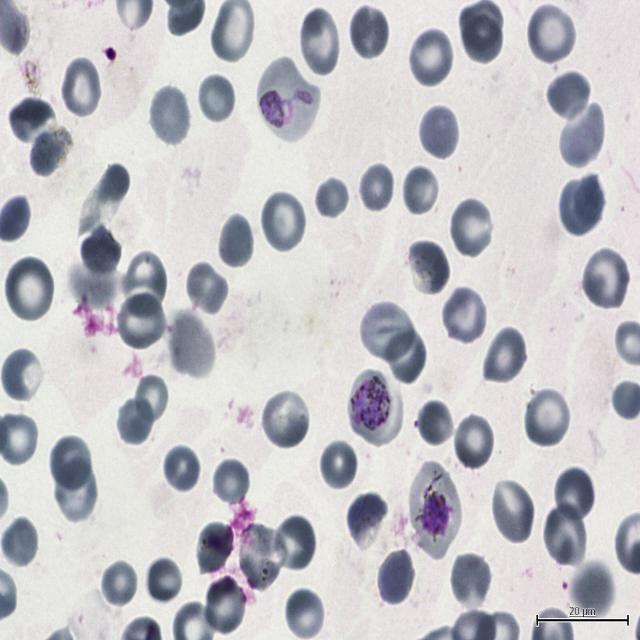red blood cell: (4, 254, 54, 324), (361, 298, 415, 362), (581, 245, 631, 312), (526, 2, 578, 66), (167, 310, 215, 379), (559, 100, 606, 169), (116, 248, 166, 312), (490, 477, 536, 545), (240, 524, 286, 592), (298, 6, 342, 77), (116, 290, 166, 352), (261, 388, 311, 450), (260, 189, 307, 254), (523, 387, 572, 449), (542, 502, 588, 568), (449, 196, 495, 260), (408, 26, 454, 89), (382, 324, 428, 387), (442, 284, 488, 346), (482, 326, 528, 388), (346, 489, 391, 552), (566, 562, 614, 621), (404, 237, 451, 297), (52, 465, 99, 523), (28, 123, 74, 182), (148, 84, 191, 147), (59, 56, 102, 119), (272, 513, 316, 574), (212, 0, 255, 62), (452, 412, 496, 472), (545, 68, 592, 123), (449, 551, 492, 611), (553, 464, 596, 524), (9, 95, 57, 148), (417, 103, 460, 162), (185, 260, 229, 316), (375, 547, 415, 608), (2, 343, 43, 400), (115, 392, 157, 447), (350, 2, 390, 59), (205, 578, 247, 632), (217, 212, 256, 270), (50, 435, 91, 490), (458, 1, 504, 49), (318, 437, 358, 492), (401, 164, 441, 218), (194, 517, 235, 569), (196, 72, 236, 125), (559, 180, 596, 237), (284, 588, 325, 639), (144, 554, 184, 606), (415, 397, 455, 448), (0, 516, 39, 568), (357, 160, 395, 213), (162, 444, 202, 494), (80, 226, 120, 276), (462, 15, 503, 63), (99, 559, 138, 609), (312, 173, 350, 222), (134, 374, 170, 424), (94, 162, 128, 212), (214, 458, 250, 504), (574, 176, 608, 224)
trophozoite: (258, 56, 320, 141), (408, 463, 460, 557), (348, 369, 403, 448)
